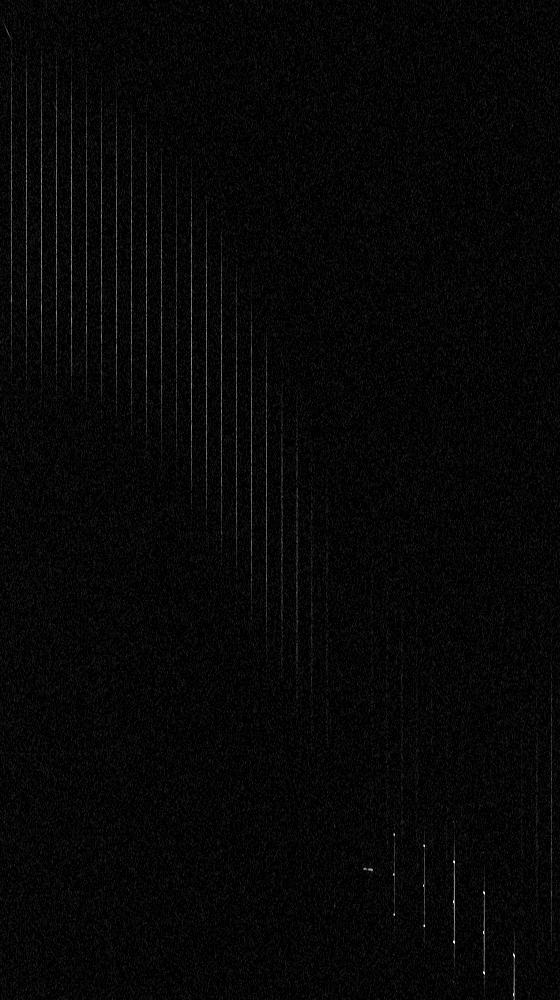signal: (0, 0, 559, 999)
